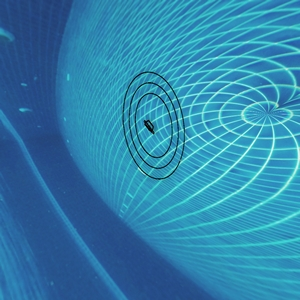circle: (115, 69, 195, 196)
submarine: (143, 122, 154, 132)
